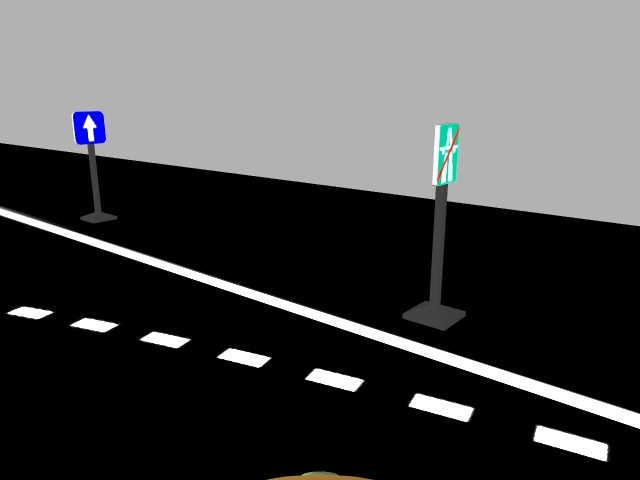HighwayExit: (430, 121, 460, 188)
OneWay: (68, 110, 107, 144)
